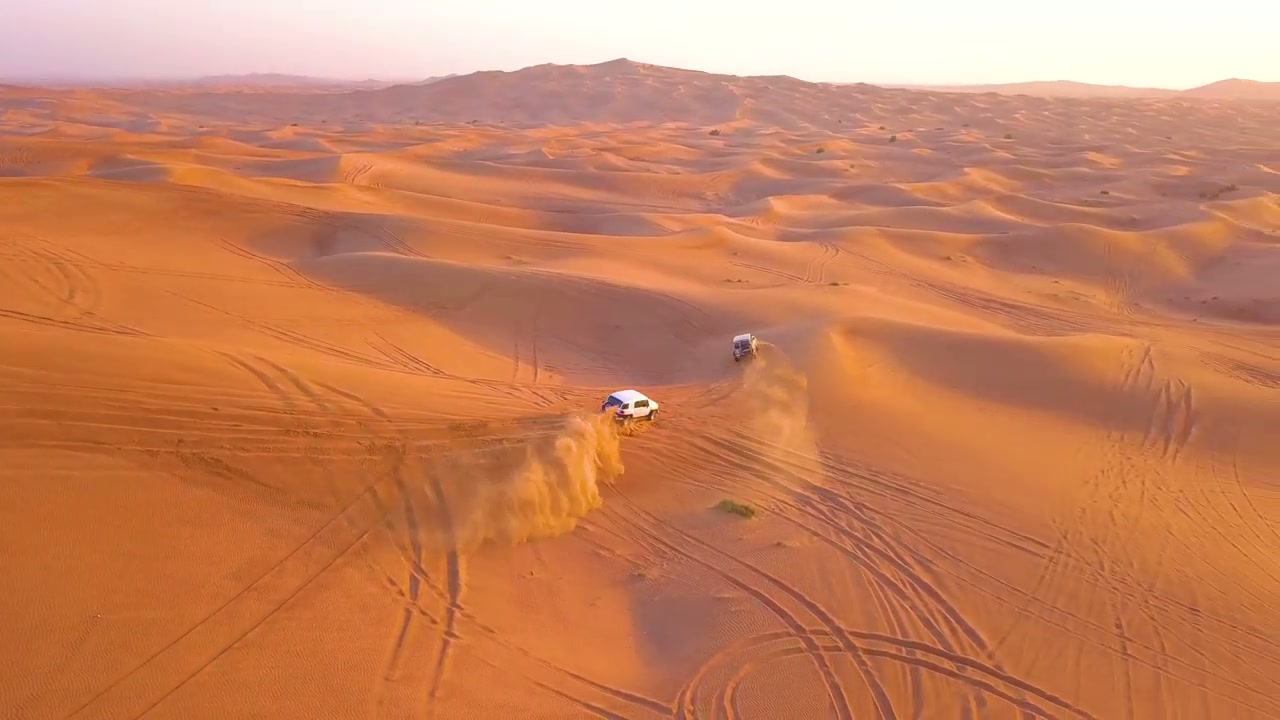vehicle_track: (611, 490, 1092, 717), (997, 343, 1265, 717), (367, 460, 669, 716), (68, 473, 385, 716), (67, 485, 375, 717), (267, 361, 464, 714), (698, 438, 997, 666), (704, 437, 986, 651), (1099, 344, 1279, 667), (601, 490, 852, 719), (136, 530, 367, 719), (1029, 422, 1165, 719), (715, 433, 1047, 554), (334, 389, 452, 714), (877, 498, 1112, 648), (966, 542, 1203, 685), (0, 379, 323, 464), (837, 251, 1127, 336), (846, 629, 1093, 719), (168, 291, 404, 370), (1184, 439, 1279, 598), (366, 331, 567, 406), (0, 235, 148, 336), (524, 268, 710, 339), (909, 278, 1110, 336), (58, 253, 338, 292), (1213, 437, 1279, 540), (219, 238, 339, 293), (511, 301, 555, 406), (0, 308, 151, 336), (367, 331, 447, 377), (1200, 351, 1279, 390), (353, 223, 428, 258), (1104, 241, 1134, 318), (731, 261, 808, 283), (803, 241, 840, 283), (343, 162, 378, 187)
